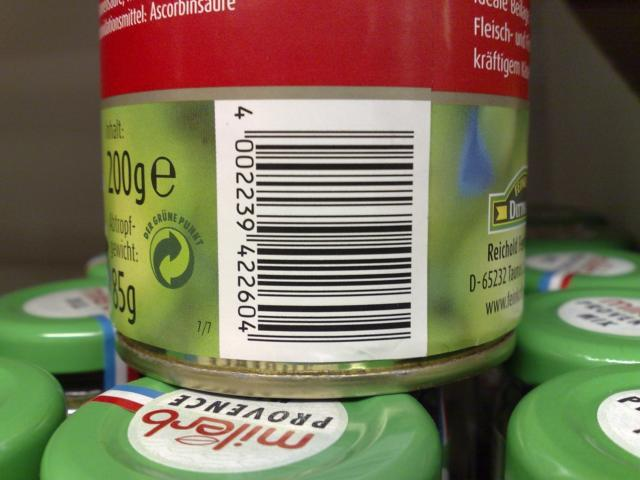Barcode: (216, 100, 430, 358)
